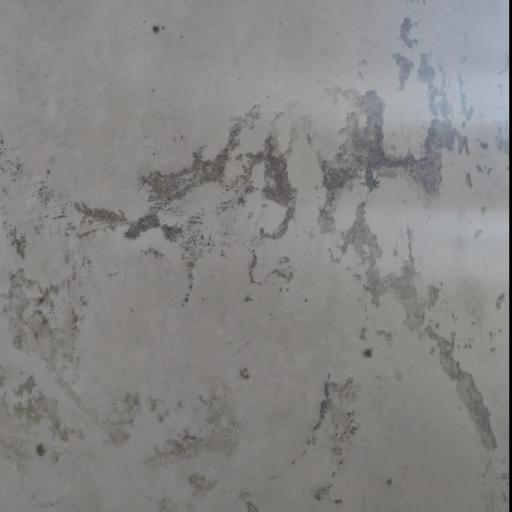peeling: (88, 15, 512, 469)
